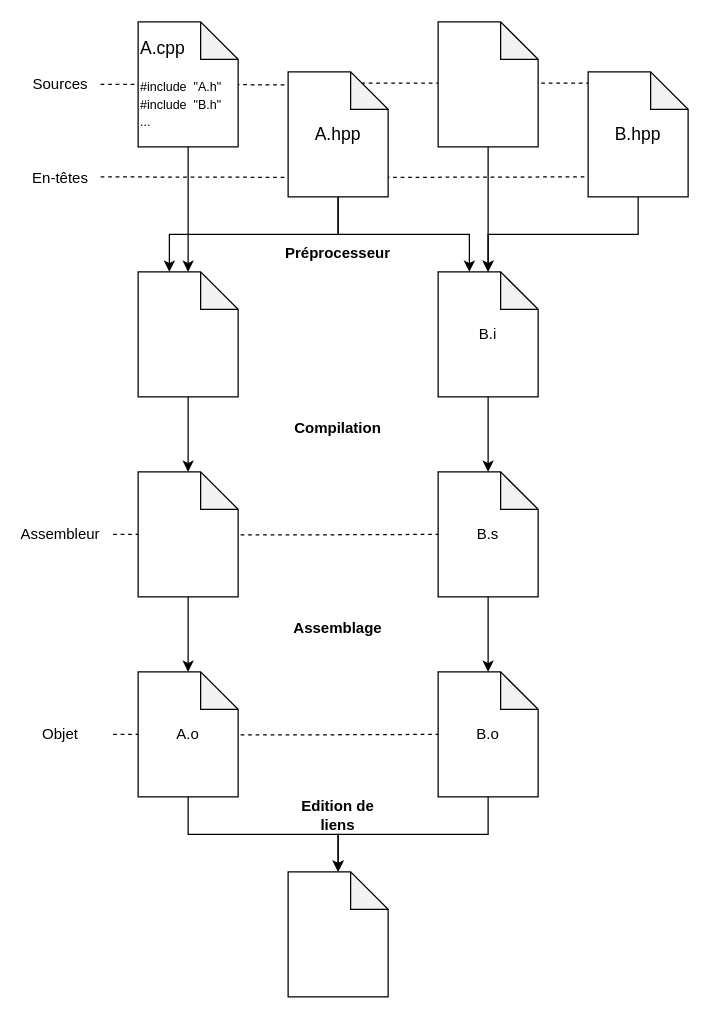
The diagram is 710 pixels wide and 1019 high, and some of its shapes have lost their labels. Each missing label, with the centre of its shape:
A.i: point 187,334
A.s: point 187,534
B.cpp #include "A.h" #include "B.h" ...: point 487,84
Executable: point 337,934
